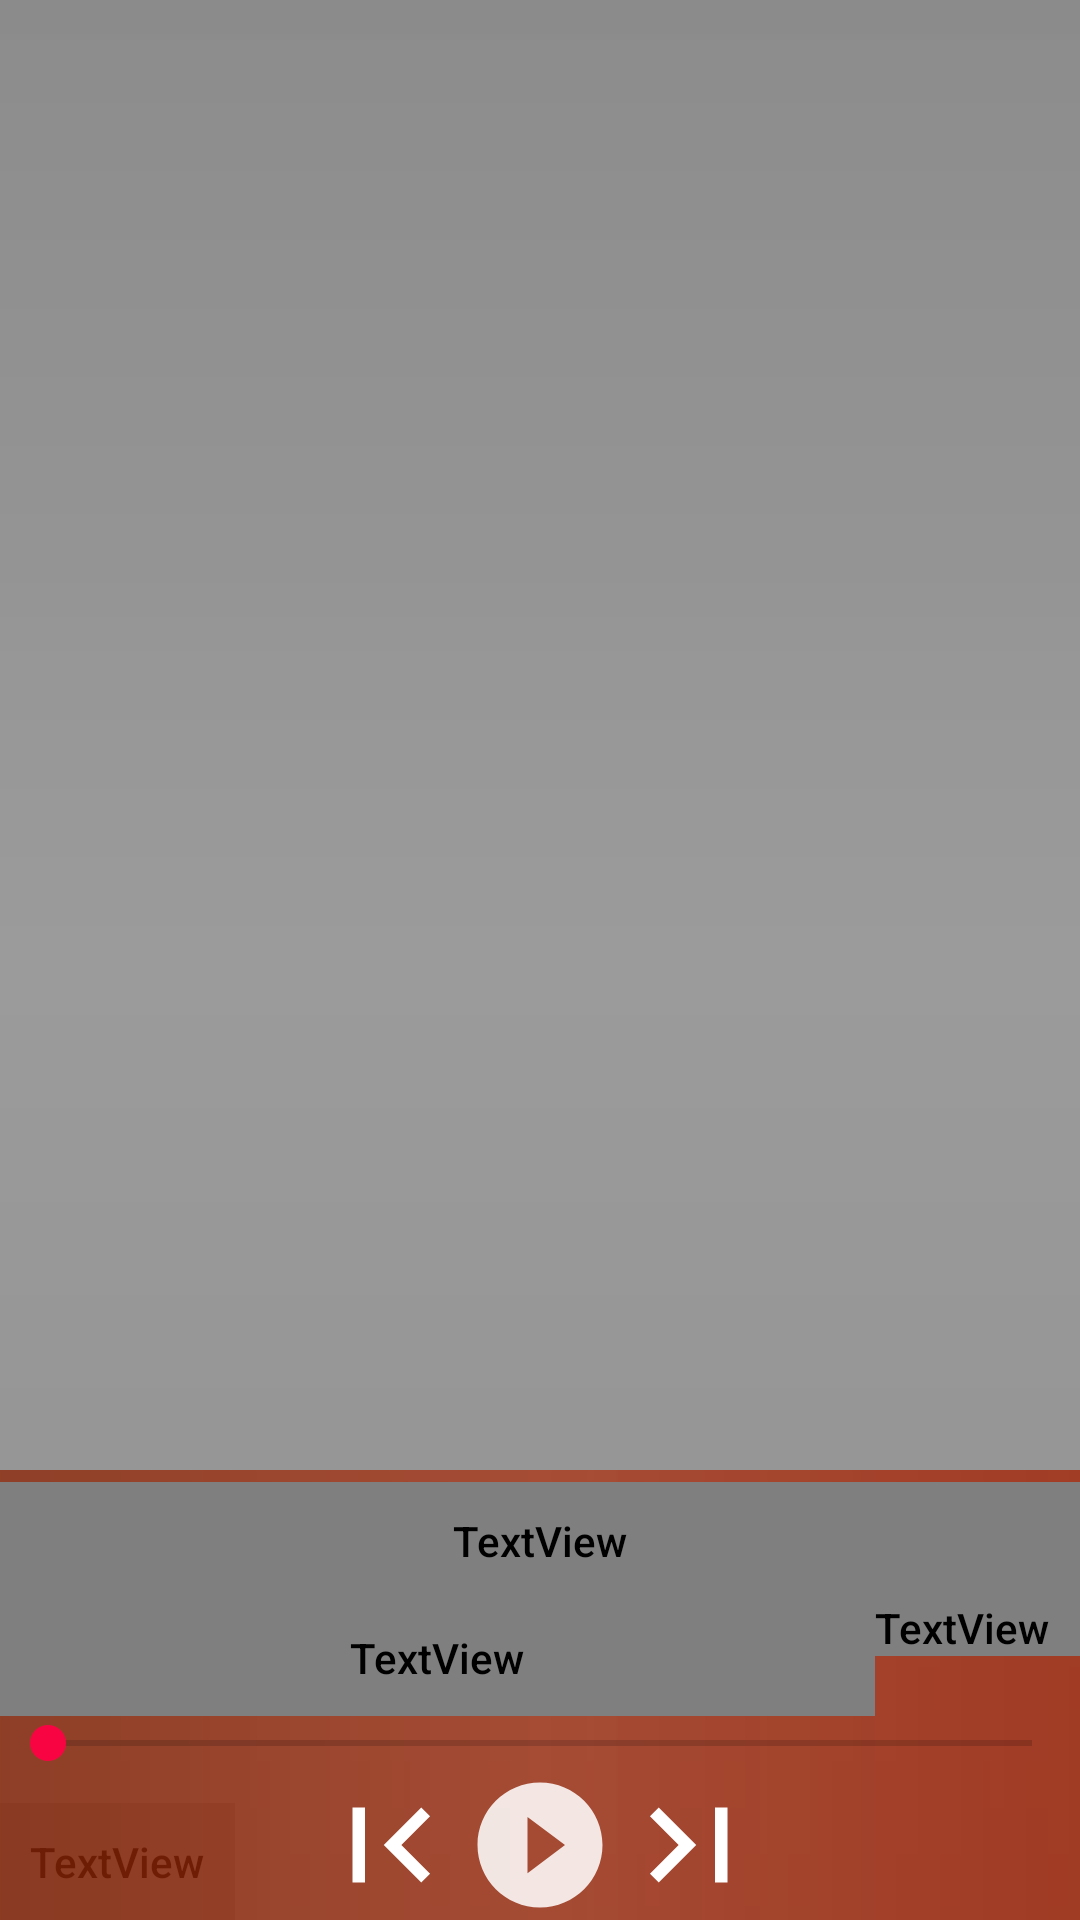

Locate icon controls on the screen. Image size 1080x1920, boxes as (left=x1, top=y1, right=x2, bottom=y2).
last: (left=650, top=1807, right=728, bottom=1883)
play circle: (left=477, top=1782, right=603, bottom=1908)
